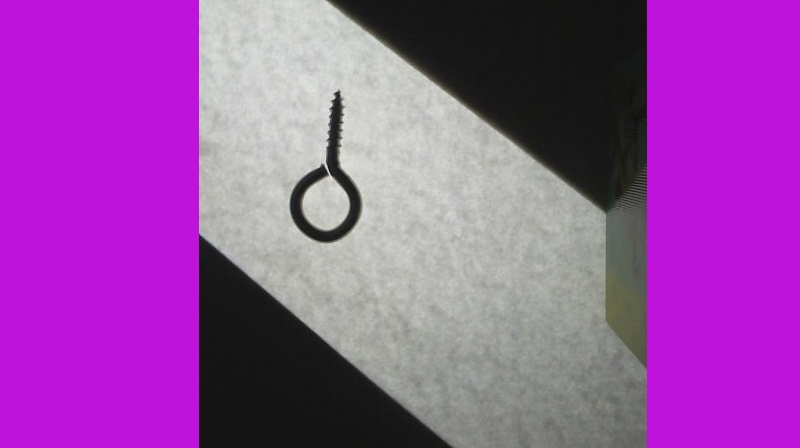O001: (286, 84, 364, 245)
